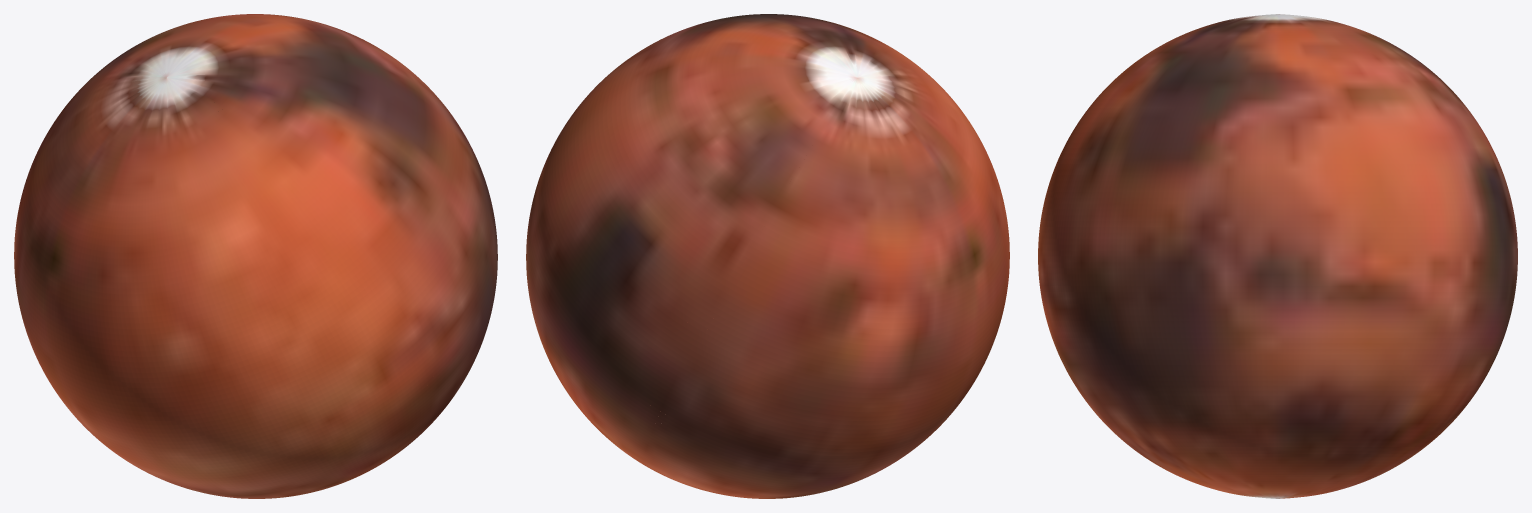
3 renders of one model, left to right at view 1: azimuth 30°, elevation 25°; view 2: azimuth 150°, elevation 25°; view 3: azimuth 270°, elevation 25°, orthographic.
Visible parts, largest first — view 1: 4. mars; view 2: 4. mars; view 3: 4. mars.
Boxes of the visible parts, left/top/right/bottom form: 4. mars: left=14, top=14, right=497, bottom=498; 4. mars: left=526, top=14, right=1009, bottom=498; 4. mars: left=1038, top=14, right=1517, bottom=498.
Size of the model in its own units: 2.77 by 2.78 by 2.76.
1 material, 1 textured.
